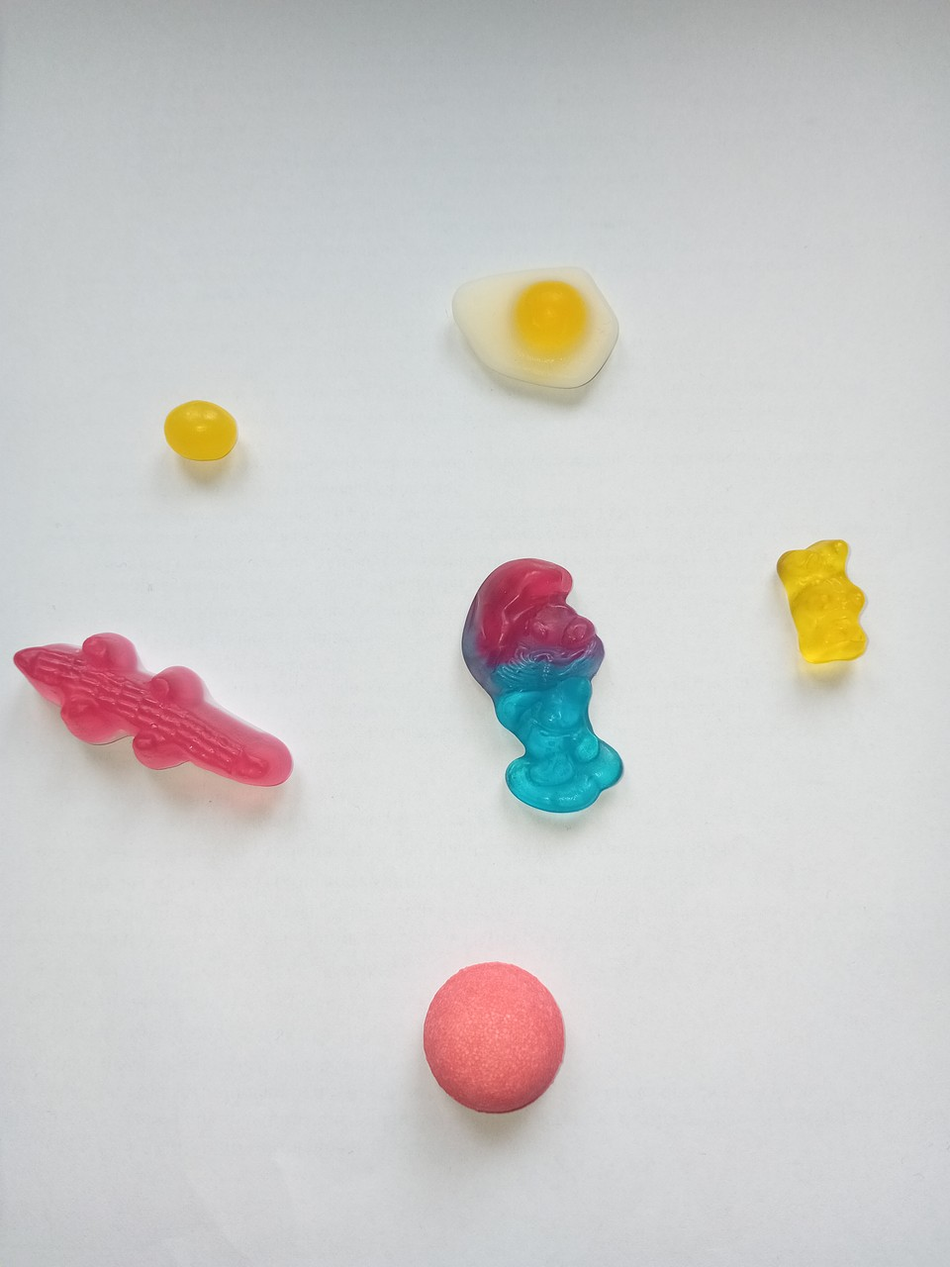crocodile_rouge: (9, 628, 300, 795)
dragibus_jaune: (158, 396, 245, 466)
oeuf_oeuf: (443, 259, 632, 398)
ourson_jaune: (766, 531, 873, 669)
schtroumpf_bleu-rouge: (457, 551, 632, 819)
tagada_fraise: (414, 950, 572, 1121)
